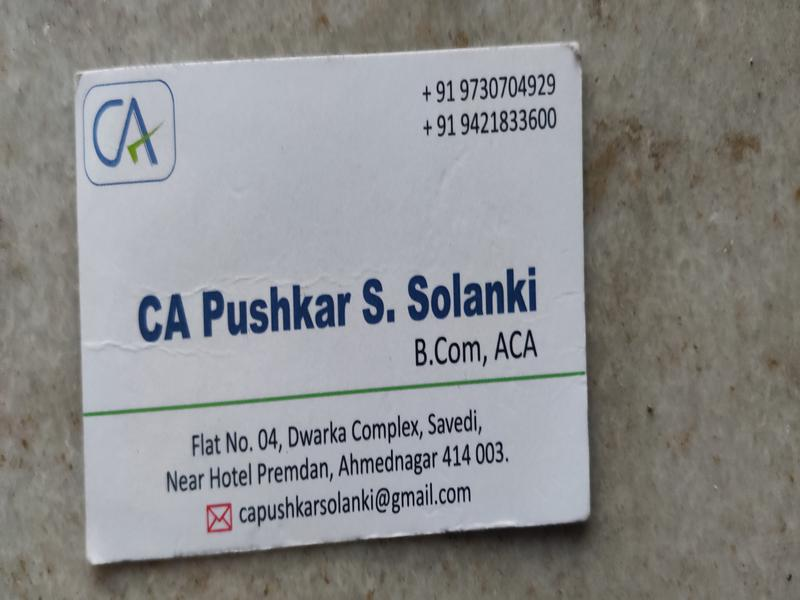card: (59, 41, 604, 568)
